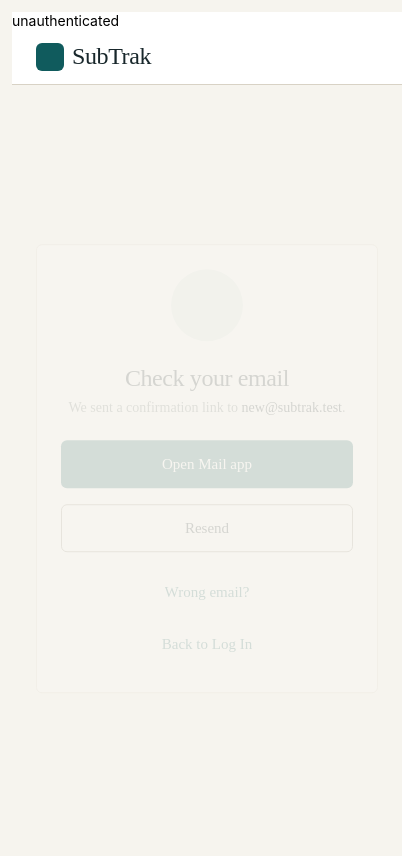
Test: Check your email (05 §4) › falls back to a default cooldown when the response has none
The width and height of the screenshot is (402, 856).
Expected: the text with test id "session-status" does not show "loading", [12, 12, 119, 29]
Click the button with test id "verify-resend".
click(207, 528)  # box [61, 504, 353, 552]
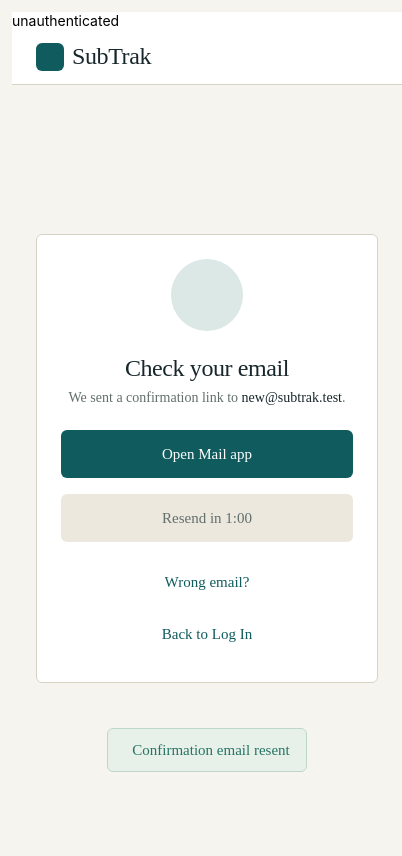
Result: the text "Resend in 1:00" is shown at [162, 510, 252, 526]
